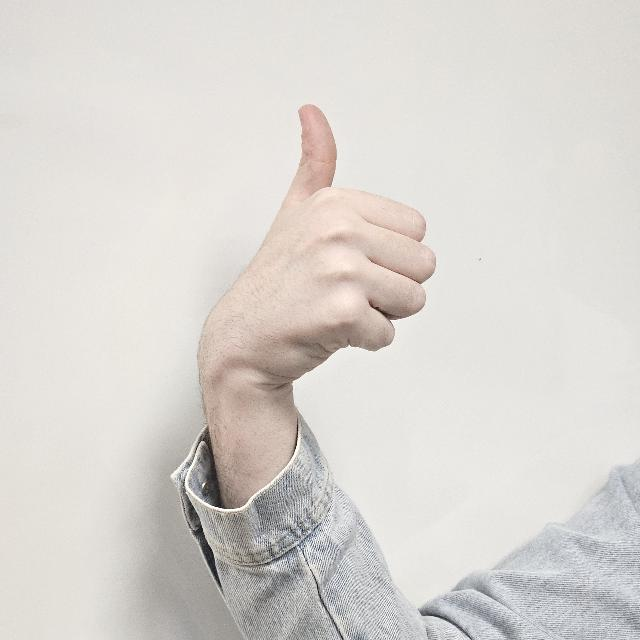Start: (248, 84, 438, 378)
